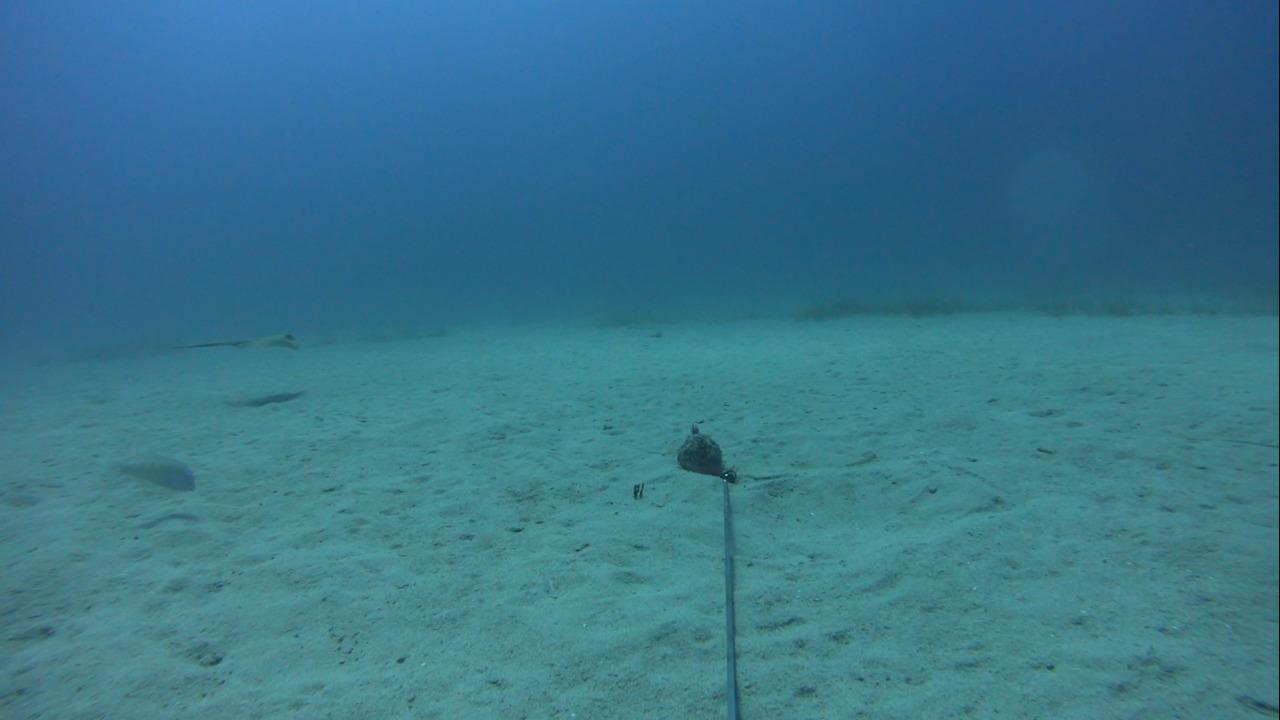myliobatis: (153, 326, 311, 358)
raor: (104, 456, 197, 497)
